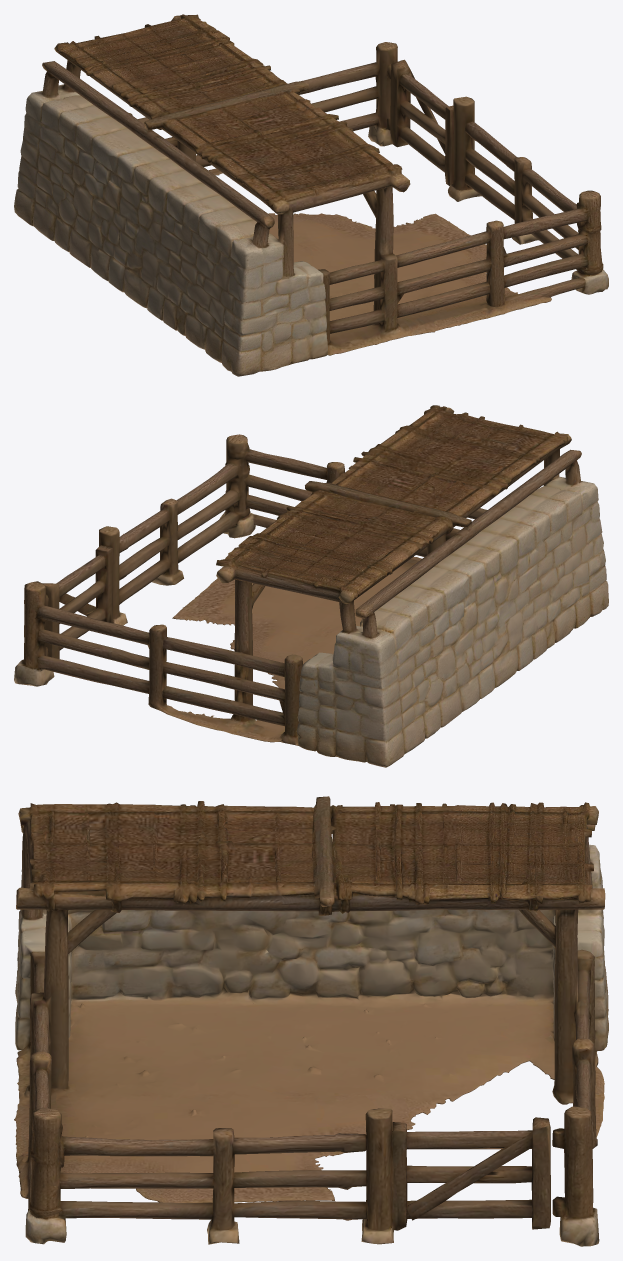
Rendered from animal-pen-tripo-v2.glb.
3 views of the same model, one above another, from view 1: azimuth 30°, elevation 25°; view 2: azimuth 150°, elevation 25°; view 3: azimuth 270°, elevation 25° (orthographic). The views are drawn at different scales.
Parts seen in each view (by area): view 1: tripo_node_01fa5e70-7018-46a7-babd-0796fe5cecce; view 2: tripo_node_01fa5e70-7018-46a7-babd-0796fe5cecce; view 3: tripo_node_01fa5e70-7018-46a7-babd-0796fe5cecce.
Boxes of the visible parts, box(x1,y1,x2,y2) form: tripo_node_01fa5e70-7018-46a7-babd-0796fe5cecce: box(14, 14, 608, 376); tripo_node_01fa5e70-7018-46a7-babd-0796fe5cecce: box(14, 405, 608, 767); tripo_node_01fa5e70-7018-46a7-babd-0796fe5cecce: box(14, 796, 608, 1246).
Size of the model in its own units: 0.9688 by 0.4233 by 1.
1 material, 1 textured.
